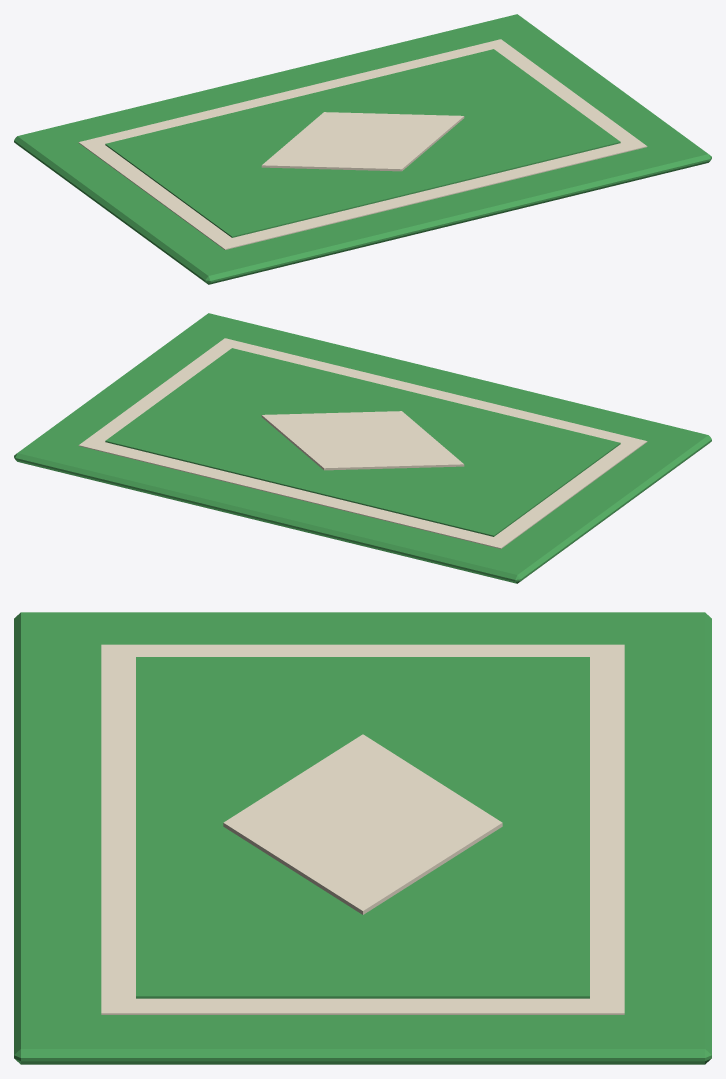
The model's file is GreenRug.fbx.
The picture shows the model from 3 angles, top to bottom: view 1: azimuth 30°, elevation 25°; view 2: azimuth 150°, elevation 25°; view 3: azimuth 270°, elevation 25°; orthographic projection. The views are drawn at different scales.
Visible parts, largest first — view 1: GreenRug; view 2: GreenRug; view 3: GreenRug.
Boxes of the visible parts, box(x1,y1,x2,y2) form: GreenRug: box(14, 14, 711, 284); GreenRug: box(14, 313, 711, 583); GreenRug: box(14, 612, 711, 1064).
Size of the model in its own units: 6 by 0.15 by 4.
Materials: 1 (1 with a texture image).
